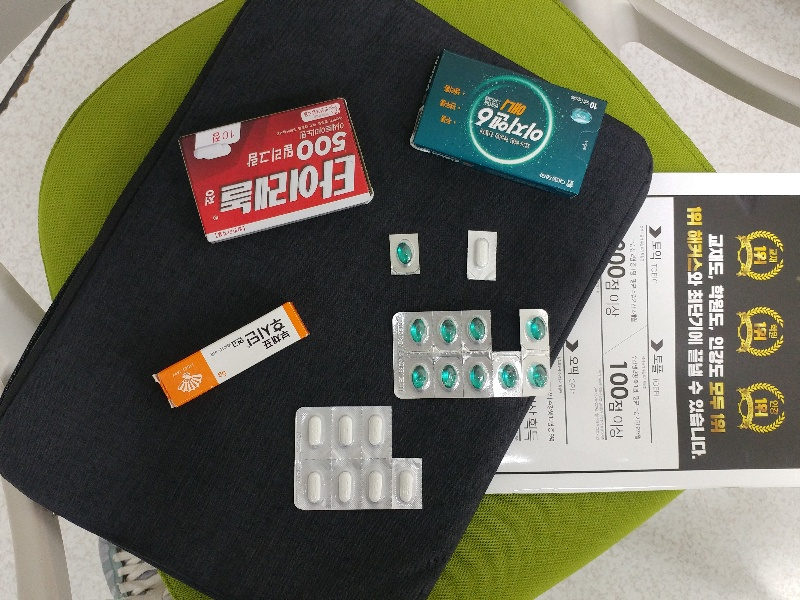ezn: (414, 48, 608, 197)
fucidin: (155, 303, 308, 404)
pill_ezn: (493, 352, 521, 396), (389, 234, 419, 275), (462, 310, 491, 350), (405, 355, 433, 396), (435, 355, 463, 396), (405, 313, 433, 353), (523, 352, 549, 395), (465, 354, 491, 396), (435, 311, 461, 352), (521, 310, 548, 349)
tylenol: (177, 99, 369, 242)
